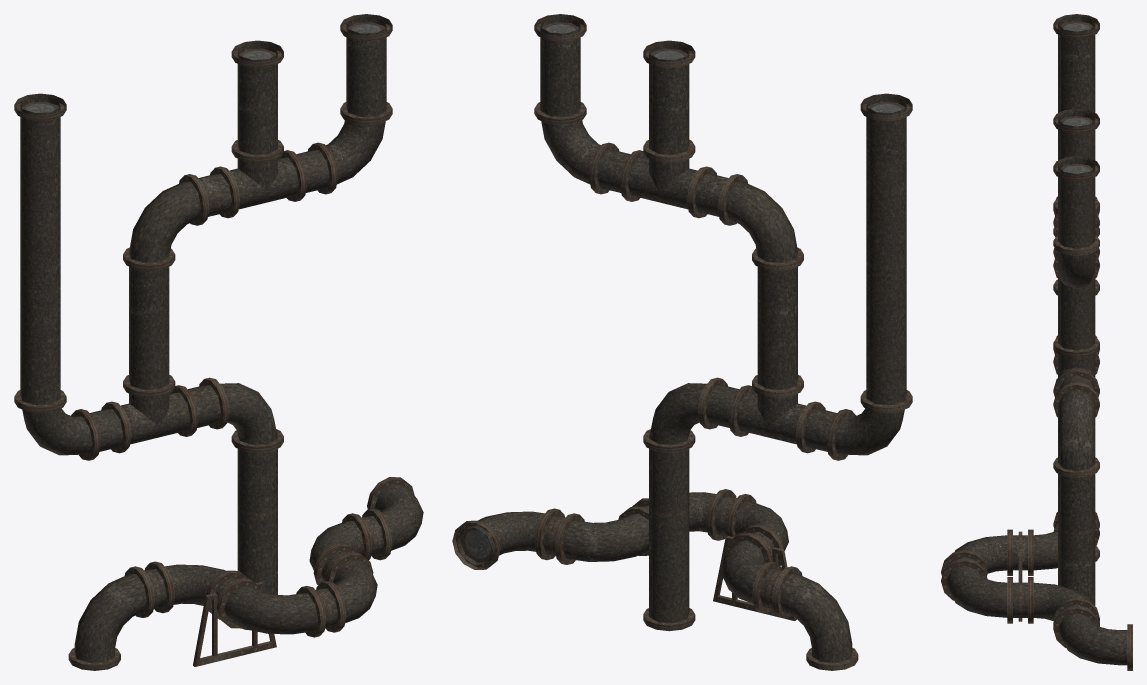
File: SM_Corridor_Pipe_Set_Brown_A.fbx
3 renders of one model, left to right at view 1: azimuth 30°, elevation 25°; view 2: azimuth 150°, elevation 25°; view 3: azimuth 270°, elevation 25°, orthographic. The views are drawn at different scales.
Parts seen in each view (by area): view 1: SM_Corridor_Pipe_Set_Brown_A; view 2: SM_Corridor_Pipe_Set_Brown_A; view 3: SM_Corridor_Pipe_Set_Brown_A.
Boxes of the visible parts, left/top/right/bottom form: SM_Corridor_Pipe_Set_Brown_A: left=14, top=14, right=423, bottom=670; SM_Corridor_Pipe_Set_Brown_A: left=452, top=14, right=912, bottom=670; SM_Corridor_Pipe_Set_Brown_A: left=941, top=14, right=1132, bottom=670.
Bounding box in the file's own units: 235 × 300 × 102.
